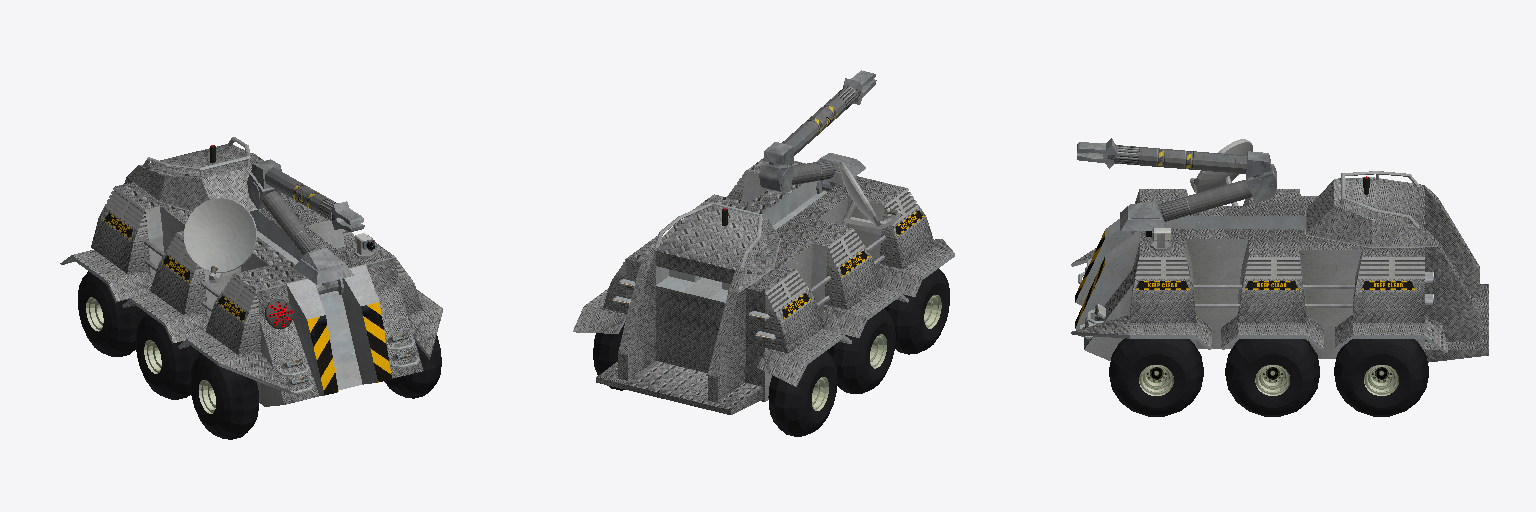
3 renders of one model, left to right at view 1: azimuth 30°, elevation 25°; view 2: azimuth 150°, elevation 25°; view 3: azimuth 270°, elevation 25°, orthographic.
Visible parts, largest first — view 1: Box01, Cylinder01, Box02, Cylinder02, Cylinder04, Cylinder03, Object01, Cylinder05; view 2: Box01, Cylinder01, Cylinder04, Cylinder03, Cylinder02, Object01, Box02, Cylinder07; view 3: Box01, Cylinder01, Cylinder06, Cylinder05, Cylinder07, Object01, Box02.
Part boxes in pixels (left/top/right/bottom): Box01: left=60, top=144, right=442, bottom=406; Cylinder01: left=247, top=159, right=364, bottom=288; Box02: left=184, top=198, right=292, bottom=328; Cylinder02: left=190, top=353, right=258, bottom=439; Cylinder04: left=78, top=271, right=146, bottom=356; Cylinder03: left=136, top=314, right=200, bottom=399; Object01: left=143, top=137, right=419, bottom=393; Cylinder05: left=384, top=335, right=441, bottom=398; Box01: left=573, top=159, right=954, bottom=414; Cylinder01: left=759, top=70, right=876, bottom=192; Cylinder04: left=768, top=351, right=837, bottom=436; Cylinder03: left=827, top=308, right=895, bottom=393; Cylinder02: left=885, top=268, right=949, bottom=354; Object01: left=612, top=165, right=885, bottom=341; Box02: left=839, top=161, right=901, bottom=228; Cylinder07: left=593, top=321, right=625, bottom=390; Box01: left=1071, top=177, right=1488, bottom=362; Cylinder01: left=1077, top=138, right=1276, bottom=230; Cylinder06: left=1225, top=339, right=1319, bottom=416; Cylinder05: left=1109, top=338, right=1203, bottom=416; Cylinder07: left=1334, top=339, right=1428, bottom=416; Object01: left=1078, top=171, right=1434, bottom=338; Box02: left=1190, top=139, right=1252, bottom=205.
Bounding box in the file's own units: 1.41 × 1.38 × 2.28.
Materials: 5 (5 with a texture image).